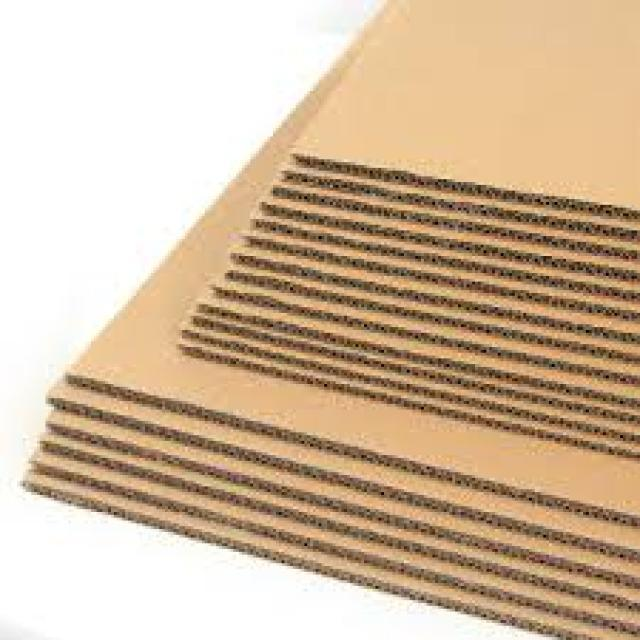Cardboard: (19, 0, 638, 640)
